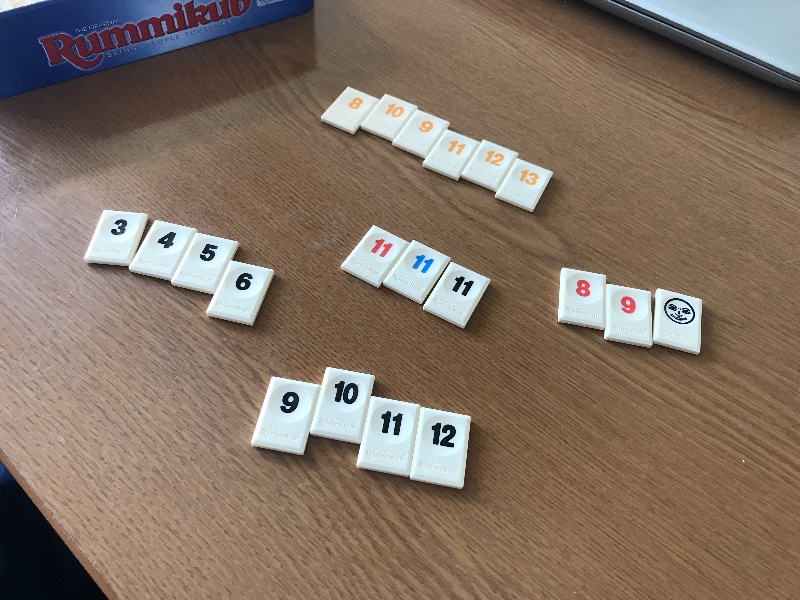single_tile: (354, 395, 423, 478), (251, 375, 321, 456), (411, 408, 472, 491), (339, 224, 411, 290), (313, 368, 375, 443), (422, 262, 490, 329), (207, 260, 274, 327), (383, 240, 452, 303), (131, 218, 198, 281), (174, 233, 241, 293), (85, 210, 147, 267), (654, 283, 703, 354), (557, 266, 608, 333), (604, 283, 655, 347), (495, 158, 555, 211), (459, 140, 521, 189), (320, 86, 379, 137), (391, 109, 450, 160), (422, 129, 481, 180), (360, 94, 420, 142)
tile_row: (319, 85, 555, 216), (249, 366, 474, 491), (82, 207, 276, 327), (340, 223, 491, 329), (558, 266, 709, 361)
